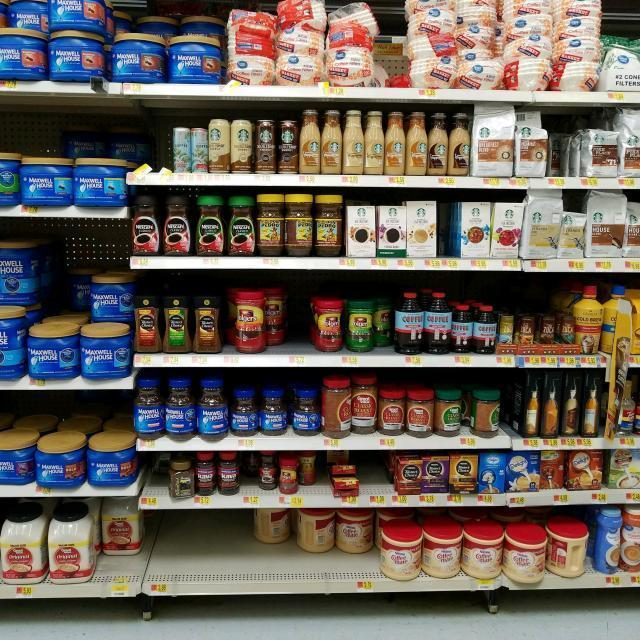Imprecise: (32, 255, 130, 378), (254, 500, 382, 582), (38, 117, 143, 212), (103, 8, 225, 85), (83, 490, 154, 585), (255, 279, 295, 352), (542, 122, 586, 176), (372, 290, 402, 356), (234, 456, 278, 495), (298, 452, 334, 496)
